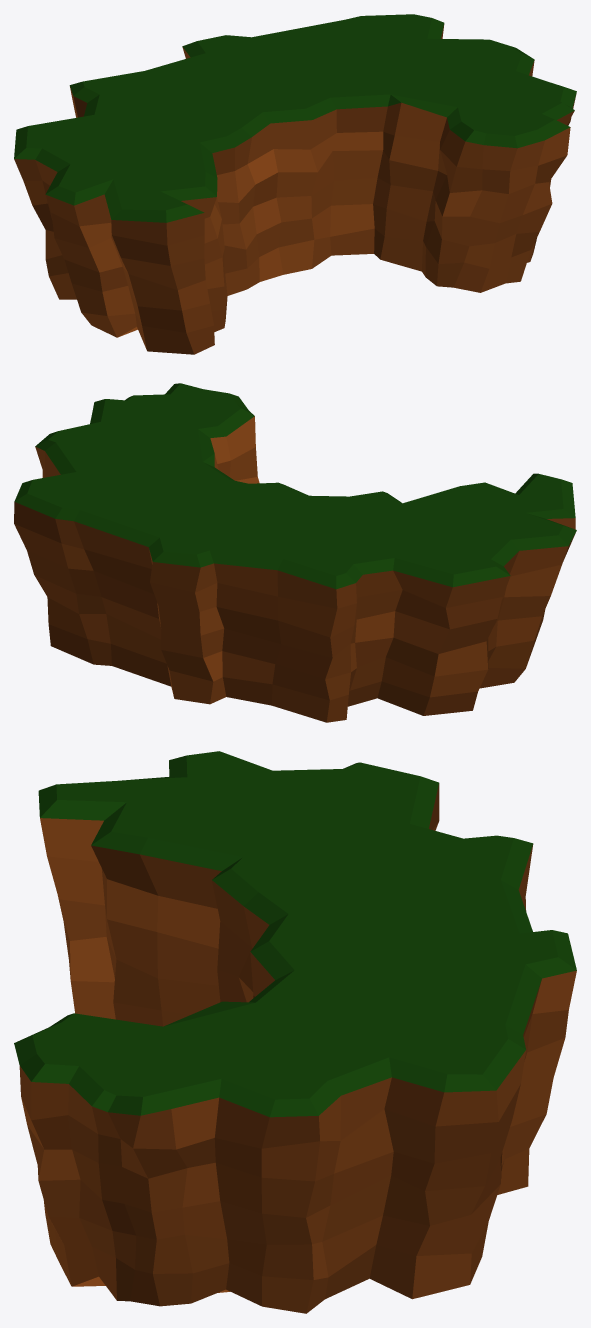
File: Cliff_2.fbx
3 renders of one model, top to bottom at view 1: azimuth 30°, elevation 25°; view 2: azimuth 150°, elevation 25°; view 3: azimuth 270°, elevation 25°, orthographic. The views are drawn at different scales.
Parts seen in each view (by area): view 1: Cliff_2; view 2: Cliff_2; view 3: Cliff_2.
Part boxes in pixels (x1,y1,x2,y2): Cliff_2: [14, 14, 576, 354]; Cliff_2: [14, 383, 576, 722]; Cliff_2: [14, 751, 576, 1313].
Size of the model in its own units: 6358 by 1995 by 4141.
